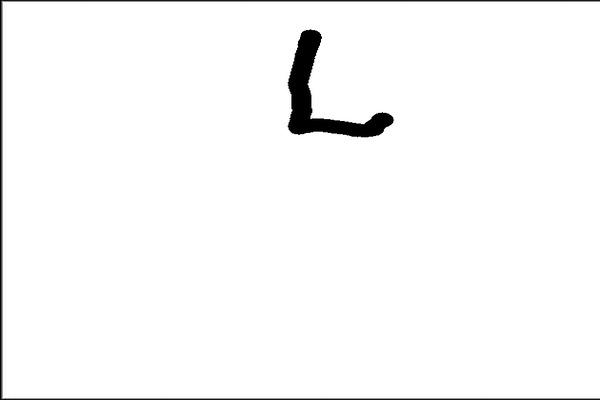L: (280, 22, 405, 138)
